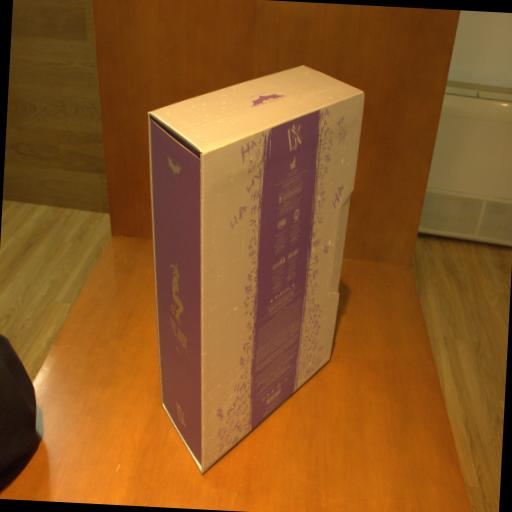Joker: (126, 54, 368, 480)
